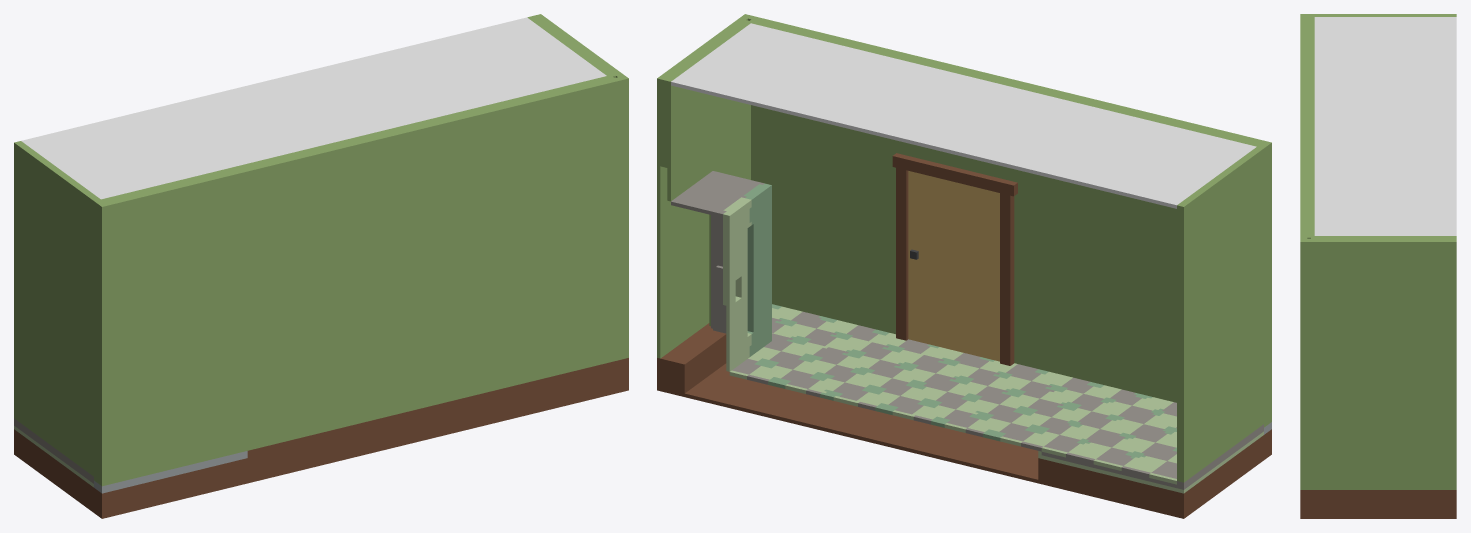
The model's file is kitchen_119x63x200_26_colors-1.obj.
3 renders of one model, left to right at view 1: azimuth 30°, elevation 25°; view 2: azimuth 150°, elevation 25°; view 3: azimuth 270°, elevation 25°, orthographic. The views are drawn at different scales.
Bounding box in the file's own units: 15.2 × 8.6 × 4.4.
Materials: 1 (1 with a texture image).
